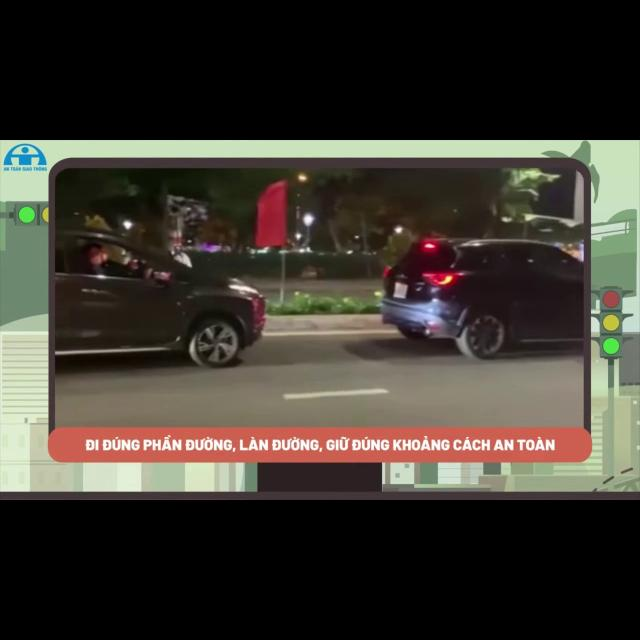car: (54, 229, 265, 367), (381, 239, 584, 358)
